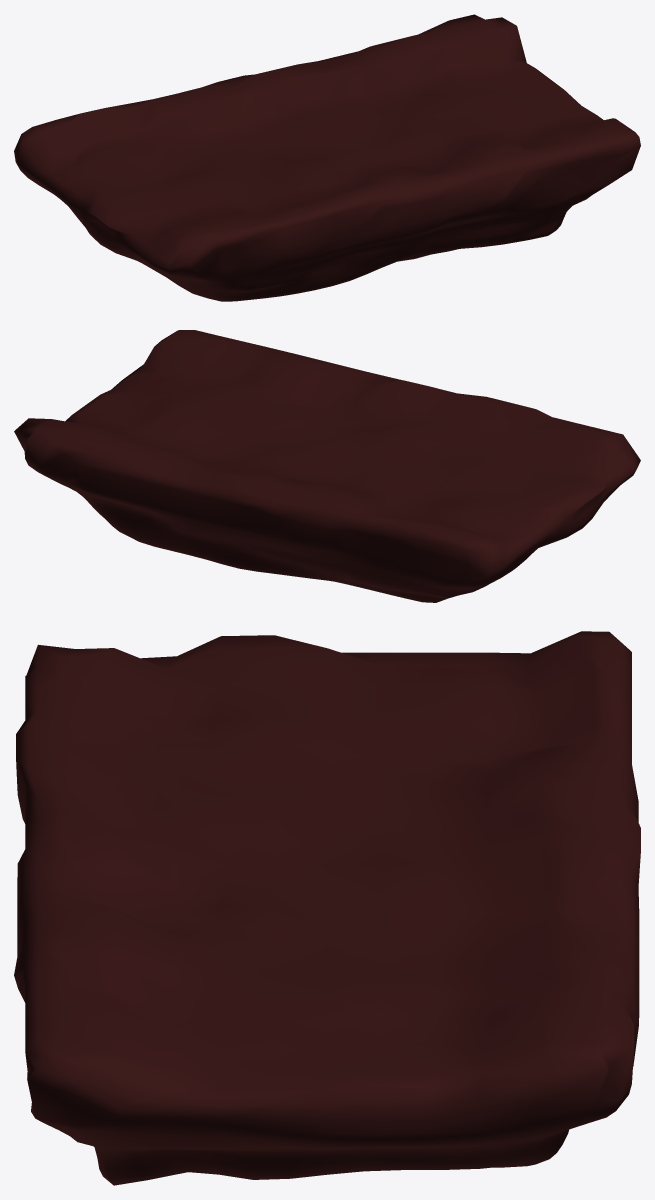
Rendered from Piso Piedra.fbx.
3 views of the same model, one above another, from view 1: azimuth 30°, elevation 25°; view 2: azimuth 150°, elevation 25°; view 3: azimuth 270°, elevation 25° (orthographic). The views are drawn at different scales.
Parts seen in each view (by area): view 1: pCube1; view 2: pCube1; view 3: pCube1.
Part boxes in pixels (x1,y1,x2,y2): pCube1: [14, 14, 640, 301]; pCube1: [14, 330, 640, 602]; pCube1: [14, 631, 640, 1185].
Bounding box in the file's own units: 39.86 × 8.44 × 23.14.
